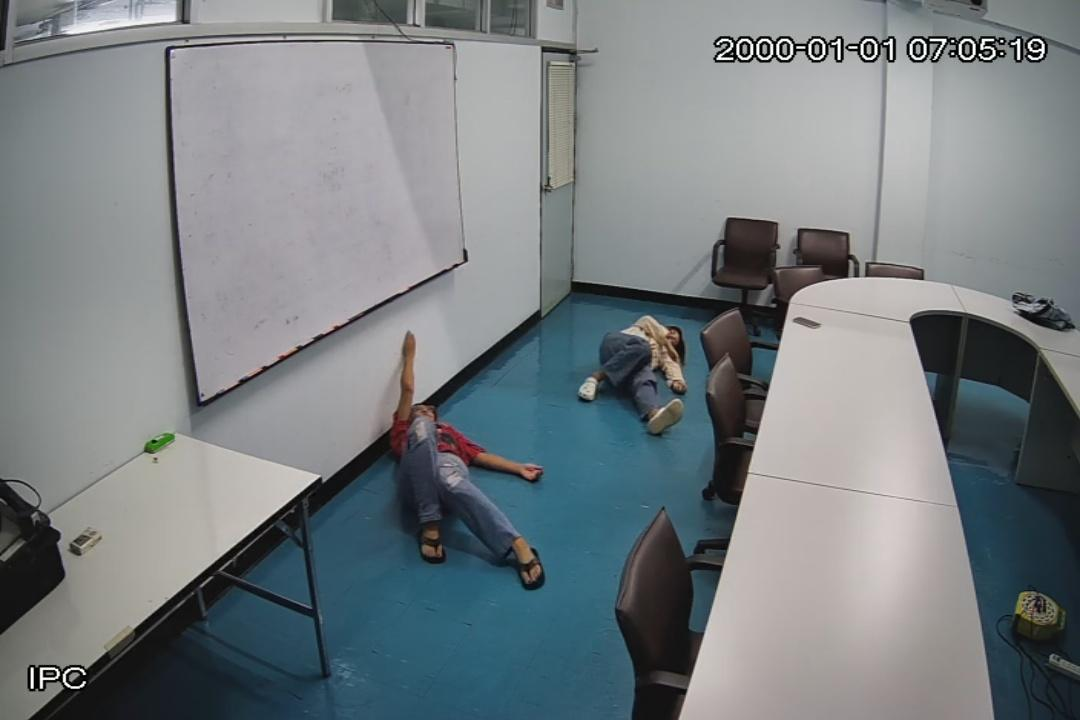fall: (390, 329, 549, 581), (578, 314, 691, 438)
